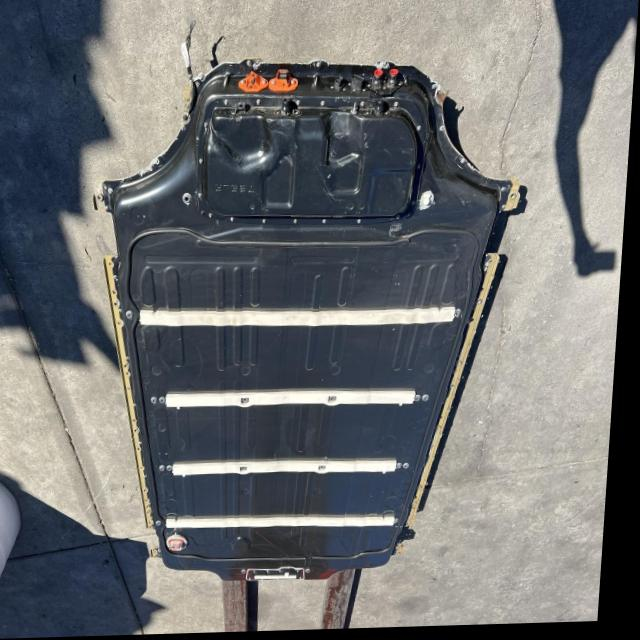Bolt: (417, 184, 439, 217), (174, 190, 199, 216), (319, 209, 338, 232), (230, 211, 245, 238), (316, 95, 331, 122), (291, 213, 306, 238), (222, 94, 237, 115), (291, 101, 306, 120), (355, 211, 368, 232), (261, 216, 276, 234), (196, 155, 207, 179), (254, 94, 265, 115), (359, 101, 369, 123), (388, 105, 402, 120), (393, 210, 402, 232), (204, 120, 216, 136)
Screw: (311, 457, 343, 492), (321, 391, 349, 426), (407, 386, 438, 416), (241, 386, 260, 424), (124, 304, 143, 333), (154, 517, 177, 539), (164, 457, 187, 477), (398, 465, 418, 487), (242, 464, 258, 489), (154, 396, 174, 415)
